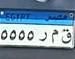5: (8, 29, 18, 41), (17, 30, 26, 41), (0, 29, 8, 40), (28, 31, 35, 41)
ر: (38, 29, 53, 43)
ق: (59, 27, 74, 43)
م: (49, 27, 59, 44)
